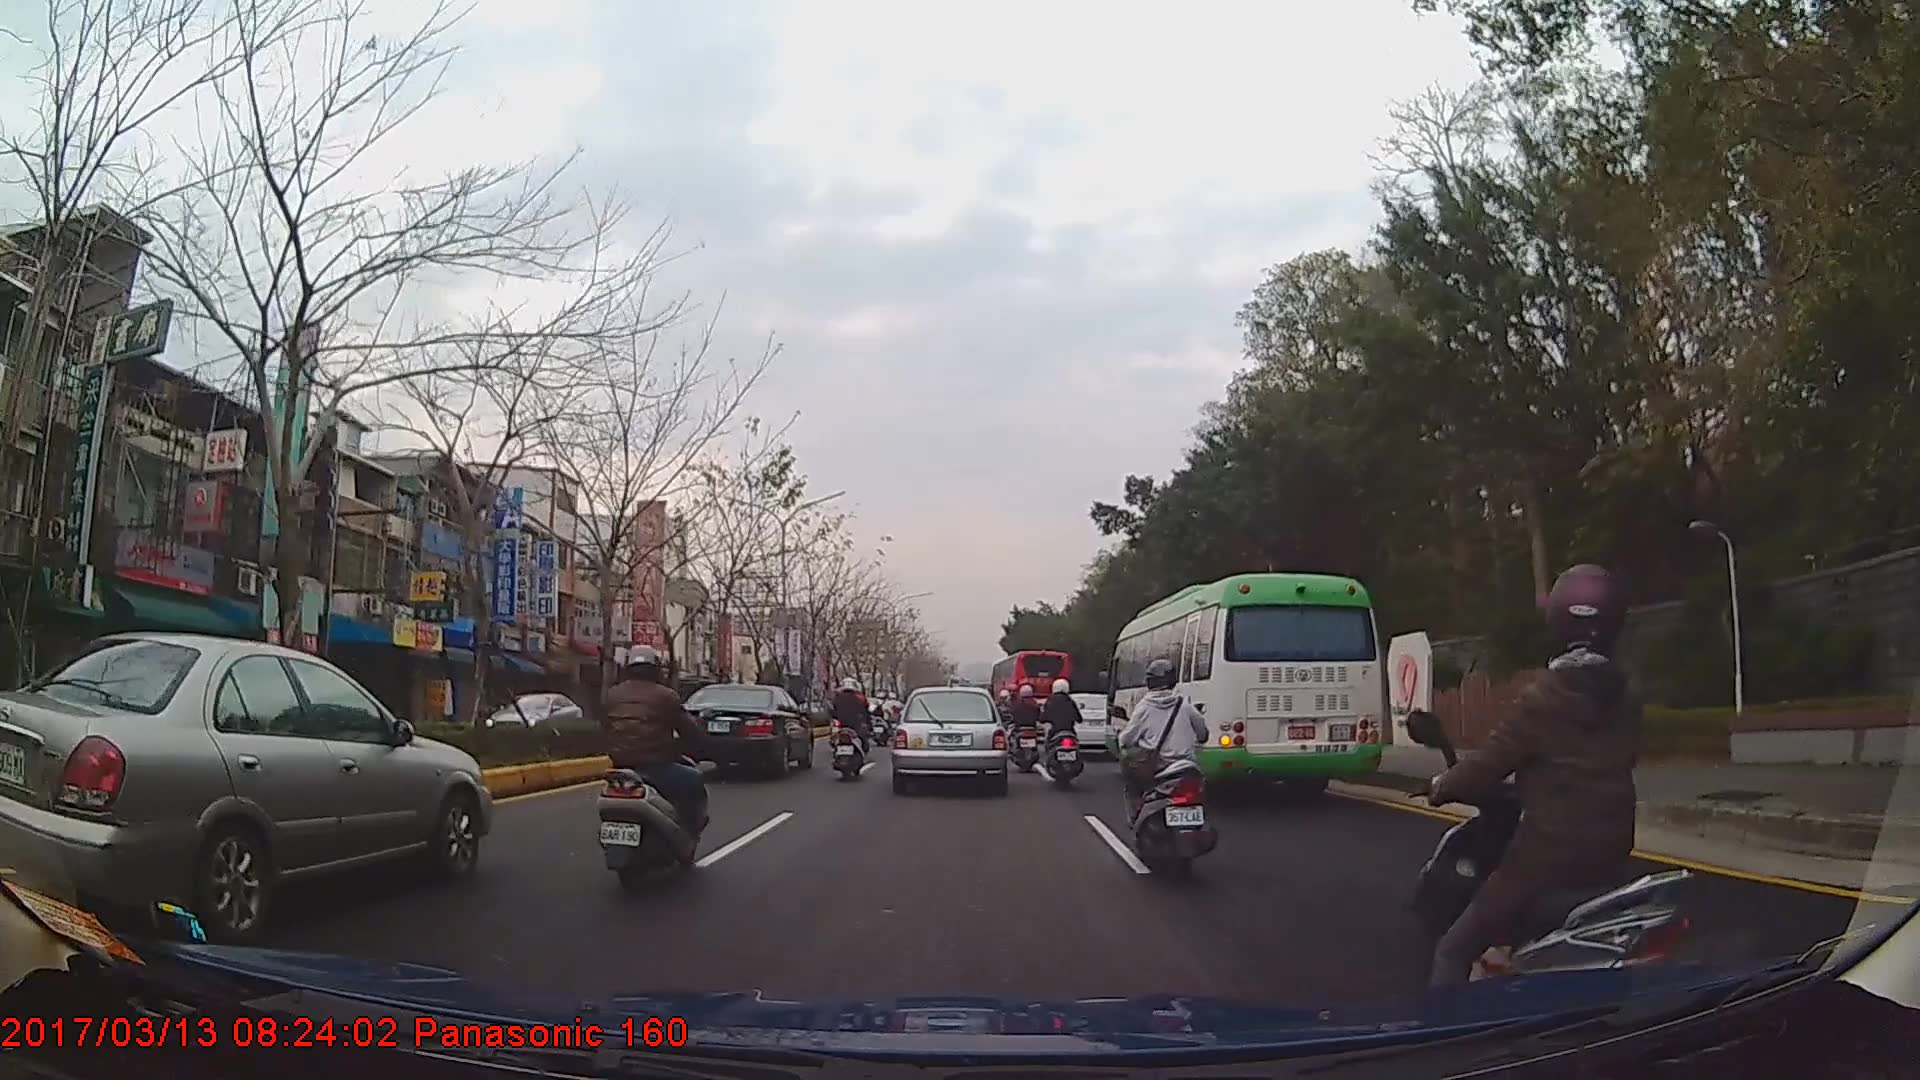rider: (1407, 561, 1701, 1048), (598, 640, 709, 894), (1124, 661, 1219, 885), (1042, 678, 1087, 786), (831, 677, 875, 782), (1011, 680, 1047, 773), (870, 692, 896, 747), (885, 691, 906, 727)
vehicle: (0, 631, 494, 925), (1104, 571, 1382, 798), (669, 681, 814, 775), (891, 684, 1009, 794), (993, 644, 1073, 737), (477, 690, 583, 746)
